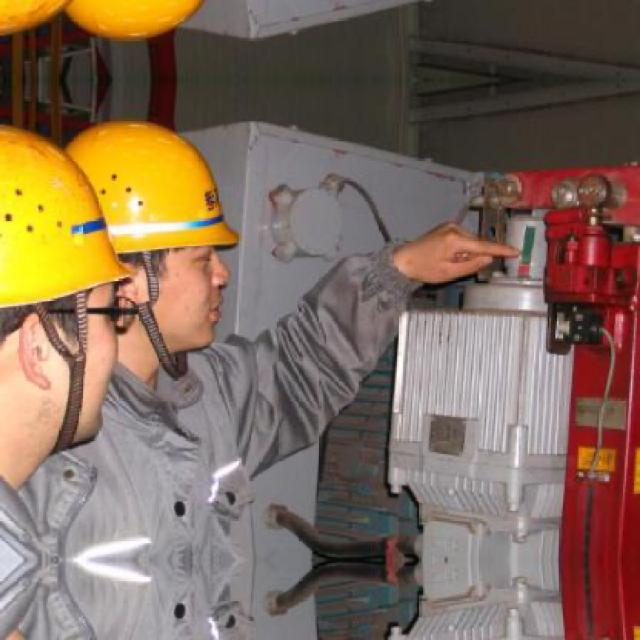con casco: (0, 139, 140, 429), (101, 129, 253, 323)
